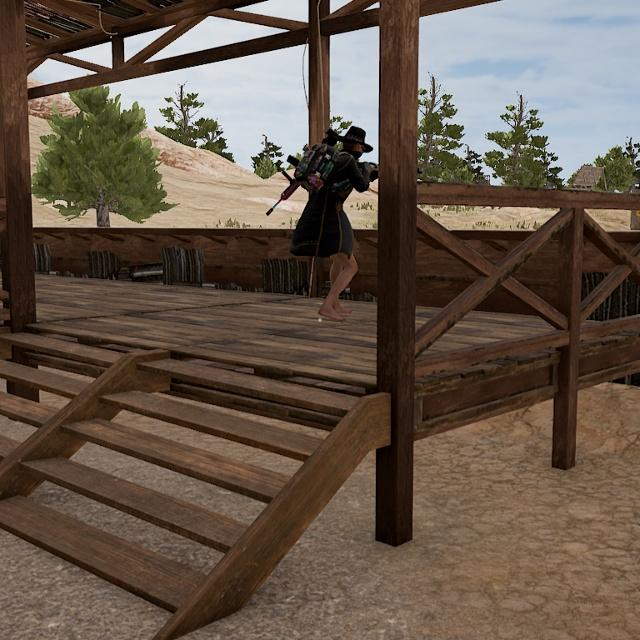head: (340, 128, 366, 160)
people: (306, 126, 374, 324)
